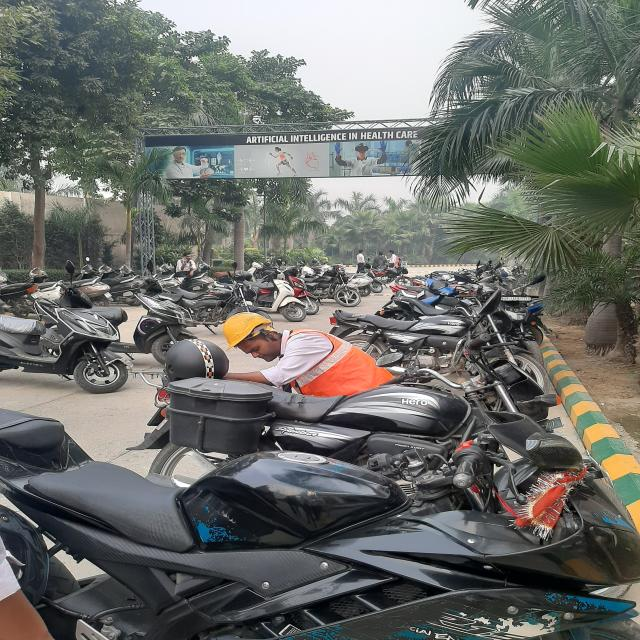safe: (221, 311, 404, 409)
unsafe: (175, 252, 199, 291), (356, 250, 366, 274), (388, 250, 397, 268)
